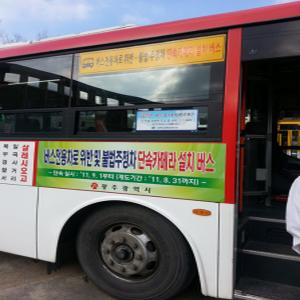frontdoor: (223, 29, 300, 292)
